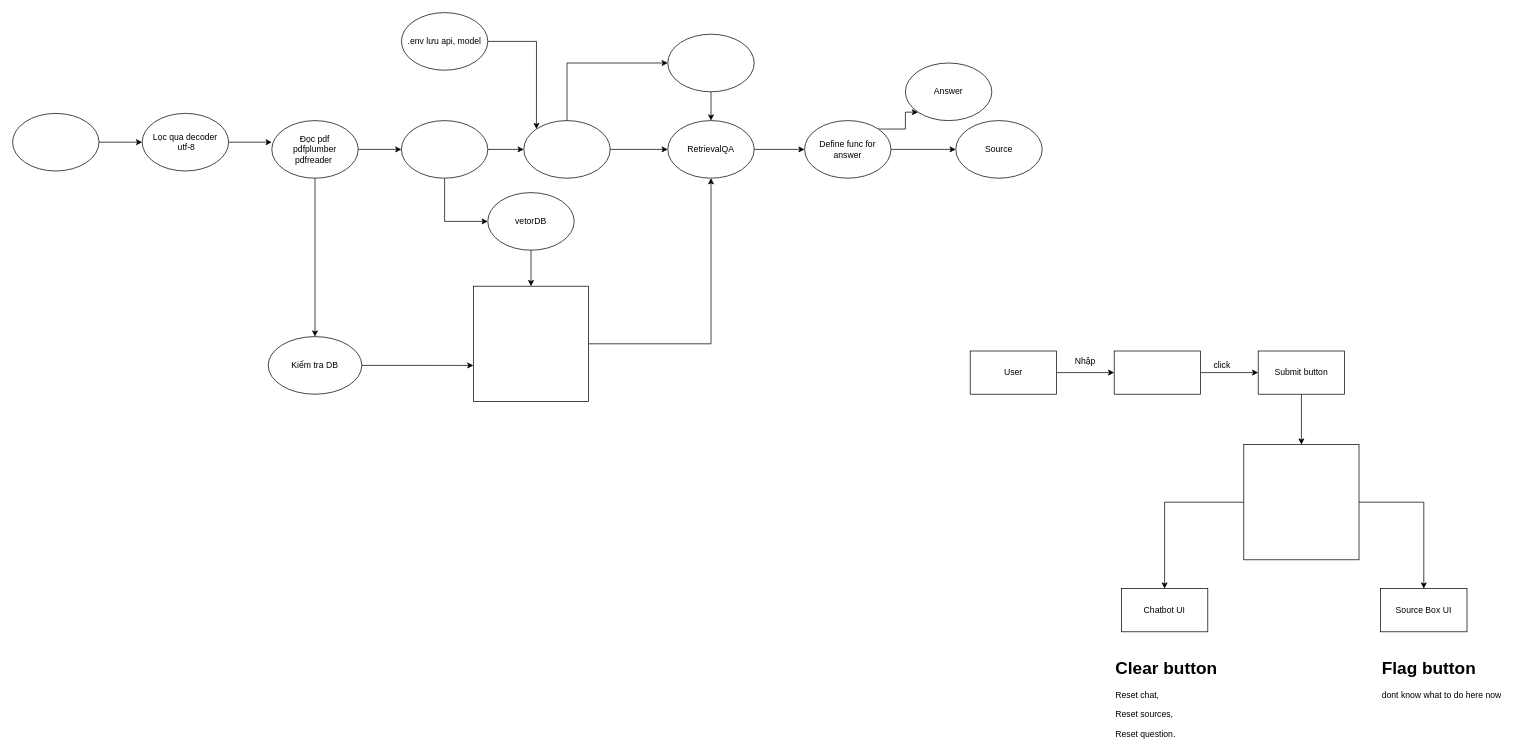
Some shapes in this 1523 by 755 pixel diagram are drawn without their labels. Each missing label, with the centre of its shape:
"Call model For Response" goes at (x=566, y=149).
"Database (ChromaDB, SQLite, SQLAlchemy)" goes at (x=531, y=343).
"Embedding model" goes at (x=444, y=149).
"Respond invoke RAG Upd History Collect Src" goes at (x=1301, y=502).
"Textbox" goes at (x=1157, y=372).
"Wrapper" goes at (x=710, y=62).
"Đầu vào FIle PDF" goes at (x=55, y=142).
